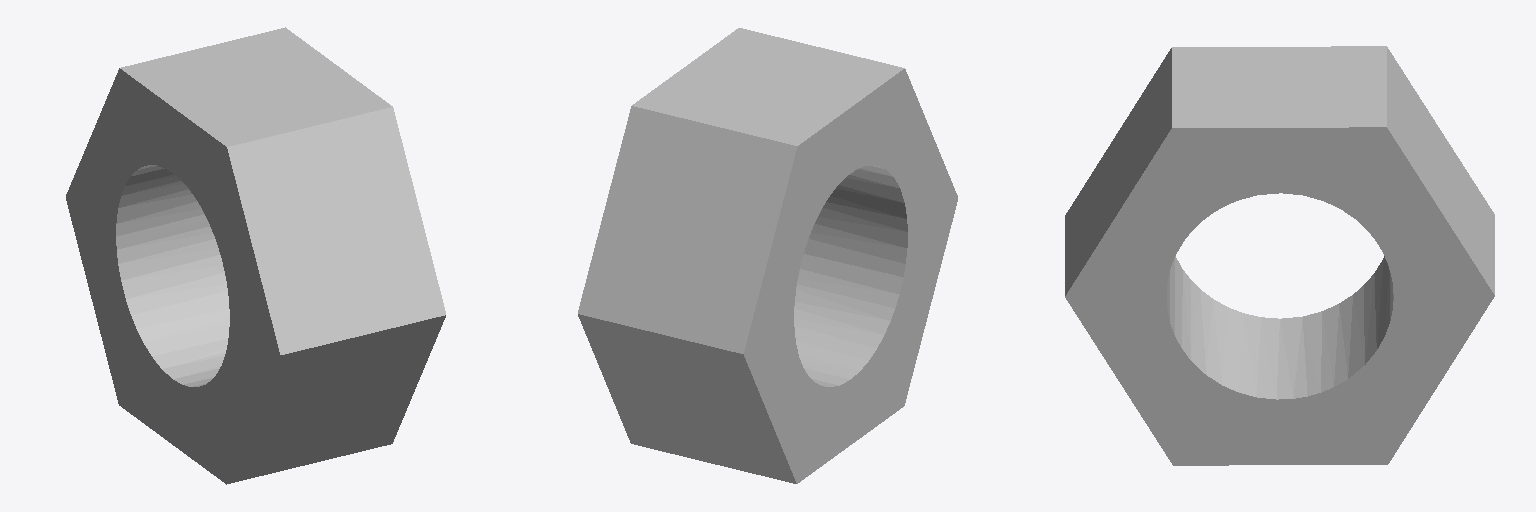
The model's file is m83 nut.obj.
3 renders of one model, left to right at view 1: azimuth 30°, elevation 25°; view 2: azimuth 150°, elevation 25°; view 3: azimuth 270°, elevation 25°, orthographic.
Parts seen in each view (by area): view 1: imagetostl_mesh; view 2: imagetostl_mesh; view 3: imagetostl_mesh.
Part boxes in pixels (bbox=[...]): imagetostl_mesh: bbox=[66, 27, 445, 484]; imagetostl_mesh: bbox=[578, 28, 957, 483]; imagetostl_mesh: bbox=[1065, 46, 1494, 465].
Bounding box in the file's own units: 70 × 136 × 157.